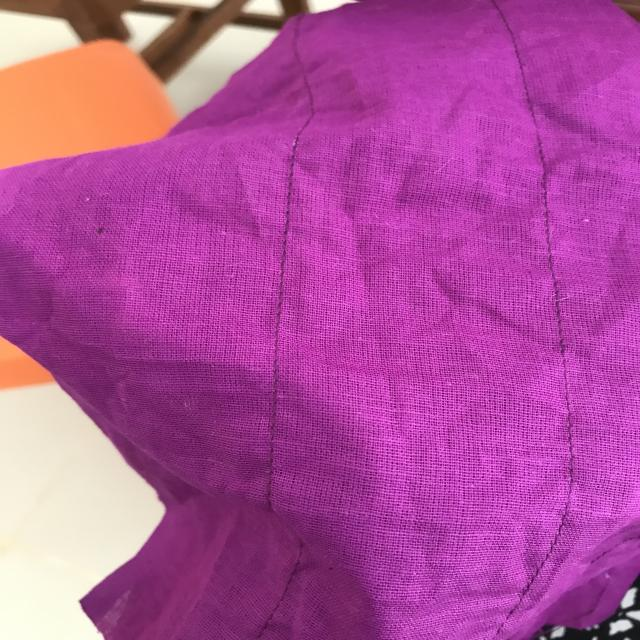good: (270, 218, 305, 336), (556, 352, 584, 443), (262, 380, 292, 451)
